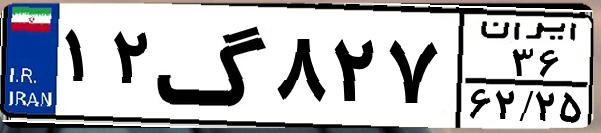1: (57, 26, 110, 100)
2: (330, 28, 385, 110), (110, 28, 156, 98), (495, 70, 520, 125), (535, 70, 560, 125)
3: (508, 27, 537, 80)
5: (560, 70, 590, 125)
6: (537, 27, 568, 80), (470, 70, 495, 125)
7: (385, 28, 445, 110)
8: (270, 28, 330, 110)
گ: (156, 12, 270, 120)
